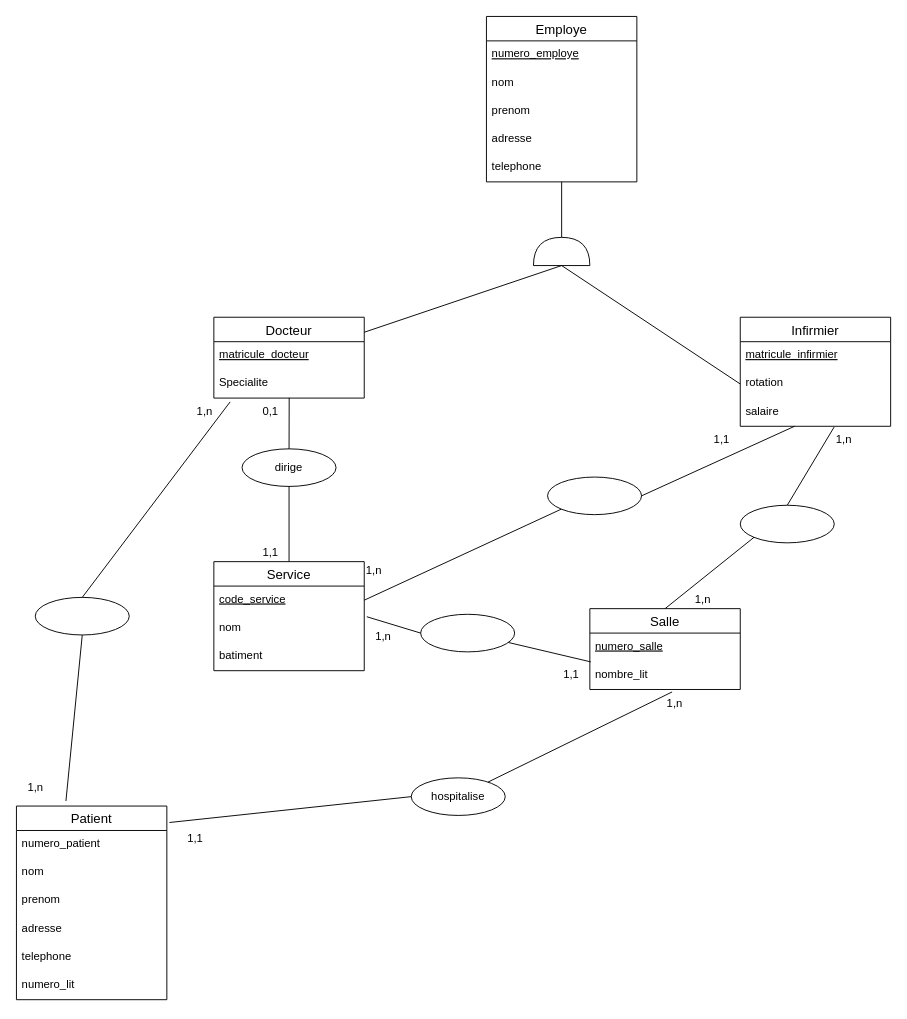
Some shapes in this 907 by 1019 pixel diagram are drawn without their labels. The shapes that lost their labels are listed below. From the top down, each one's box as (x1, y1, x2, y2) in pixels, then its label:
(547, 476, 642, 515): affecter
(739, 504, 834, 543): surveille
(34, 596, 129, 635): soigne
(420, 613, 515, 652): avoir
